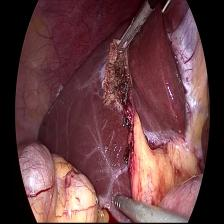Grasper: (111, 9, 152, 54)
Irrigator: (112, 185, 133, 220)
